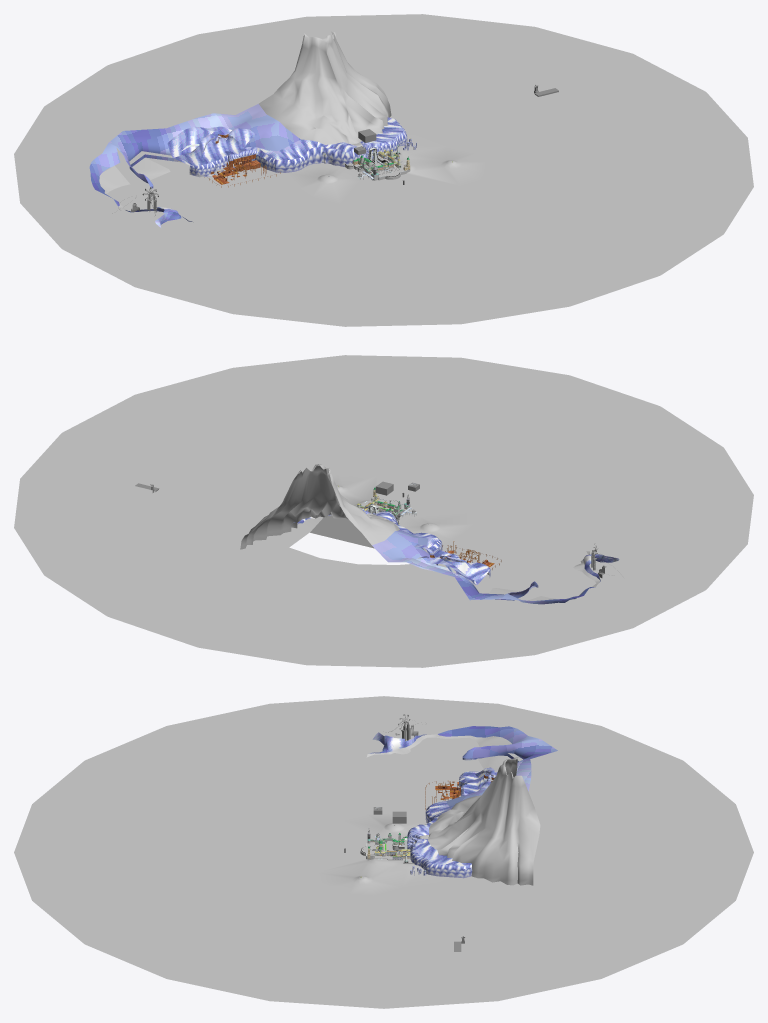
Rendered from delfino.FBX.
3 renders of one model, top to bottom at view 1: azimuth 30°, elevation 25°; view 2: azimuth 150°, elevation 25°; view 3: azimuth 270°, elevation 25°, orthographic.
Visible parts, largest first — view 1: n31b10, n53b11, n35b12, n49b22; view 2: n31b10, n35b12, n53b11, n56b19; view 3: n31b10, n35b12, n53b11.
Part boxes in pixels (<box>): n31b10: <box>14,14,753,326</box>; n53b11: <box>89,104,416,227</box>; n35b12: <box>259,31,391,144</box>; n49b22: <box>204,134,280,187</box>; n31b10: <box>14,355,753,667</box>; n35b12: <box>240,464,399,549</box>; n53b11: <box>292,508,619,604</box>; n56b19: <box>135,483,623,577</box>; n31b10: <box>14,696,753,1008</box>; n35b12: <box>428,757,540,885</box>; n53b11: <box>368,726,557,878</box>.
Bounding box in the file's own units: 99187 × 13507 × 99187.
